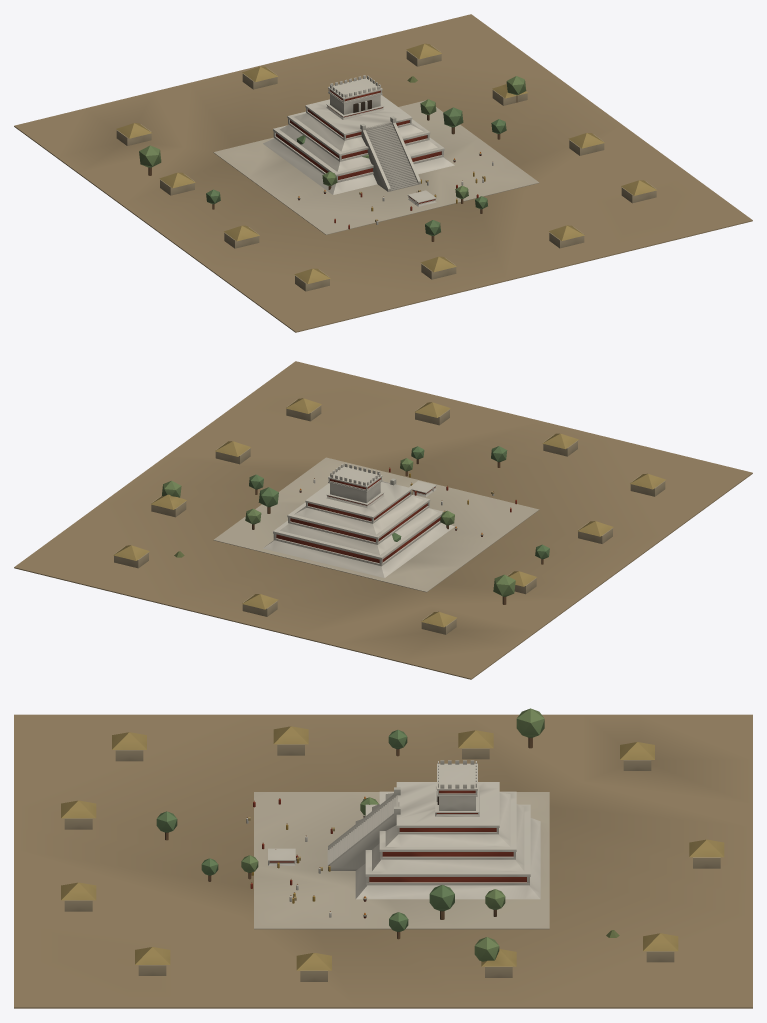
The model's file is pyramid-of-the-moon-100.glb.
The picture shows the model from 3 angles, top to bottom: view 1: azimuth 30°, elevation 25°; view 2: azimuth 150°, elevation 25°; view 3: azimuth 270°, elevation 25°; orthographic projection. The views are drawn at different scales.
Parts seen in each view (by area): view 1: p0_ground, p2_temple, p1_platform; view 2: p0_ground, p2_temple, p1_platform; view 3: p0_ground, p1_platform, p2_temple.
Part boxes in pixels (left/top/right/bottom): p0_ground: left=14, top=14, right=752, bottom=332; p2_temple: left=116, top=43, right=656, bottom=291; p1_platform: left=263, top=95, right=454, bottom=194; p0_ground: left=14, top=361, right=752, bottom=679; p2_temple: left=113, top=398, right=665, bottom=634; p1_platform: left=263, top=478, right=454, bottom=577; p0_ground: left=14, top=714, right=752, bottom=1008; p1_platform: left=327, top=782, right=540, bottom=899; p2_temple: left=61, top=708, right=724, bottom=981.
Size of the model in its own units: 150 by 21.46 by 160.
